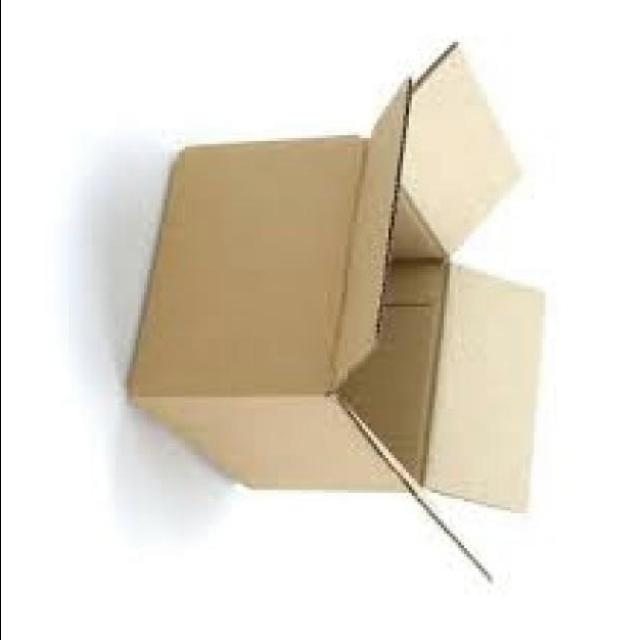cardboard paper: (131, 46, 544, 510), (426, 266, 545, 510), (404, 49, 519, 249)
